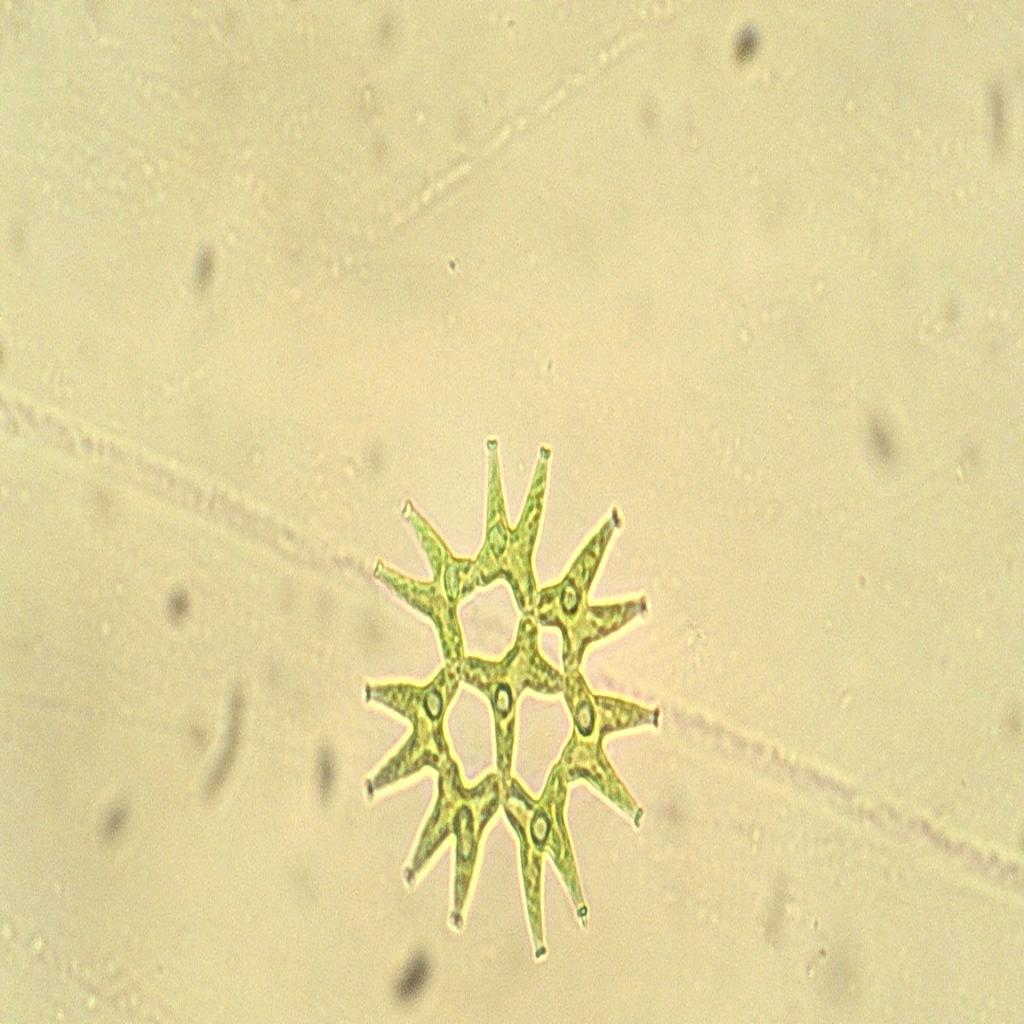Pediastrum_CTH: (353, 404, 665, 1000)
